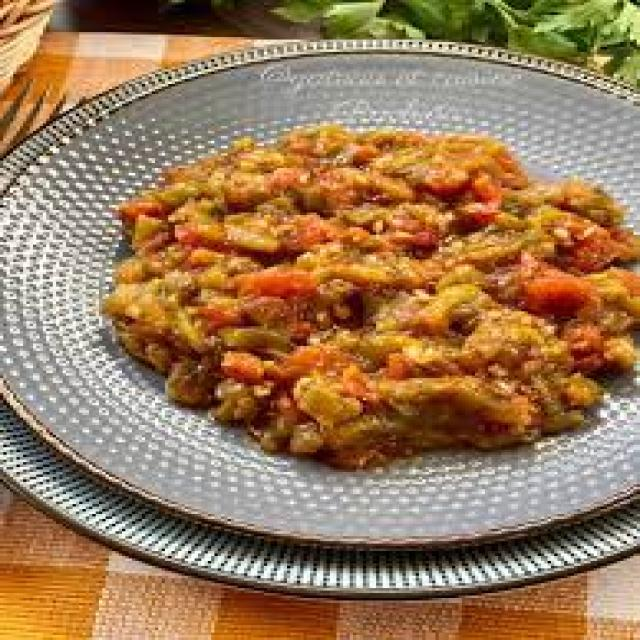Salade mechweya: (82, 103, 628, 497)
